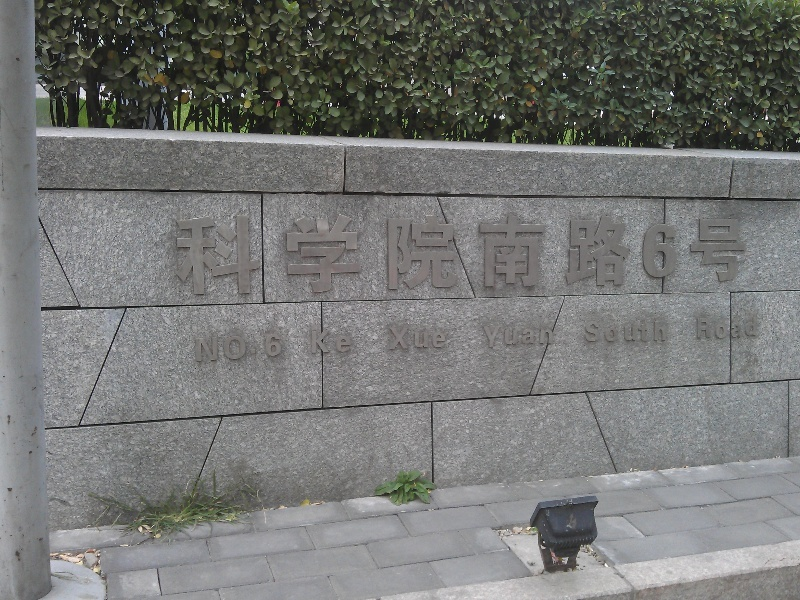text: (177, 214, 192, 298), (193, 214, 208, 298), (209, 214, 224, 298), (225, 214, 240, 298), (241, 214, 256, 298), (257, 214, 272, 298), (273, 214, 288, 298), (289, 214, 304, 298), (305, 214, 320, 298), (321, 214, 336, 298), (337, 214, 352, 298), (353, 214, 368, 298), (369, 214, 384, 298), (385, 214, 400, 298), (401, 214, 416, 298), (417, 214, 432, 298), (433, 214, 448, 298), (449, 214, 464, 298), (465, 214, 480, 298), (481, 214, 496, 298), (497, 214, 512, 298), (513, 214, 528, 298), (529, 214, 544, 298), (545, 214, 560, 298), (561, 214, 576, 298), (577, 214, 592, 298), (593, 214, 608, 298), (609, 214, 624, 298), (625, 214, 640, 298), (641, 214, 656, 298), (657, 214, 672, 298), (673, 214, 688, 298), (689, 214, 704, 298), (705, 214, 720, 298), (721, 214, 736, 298), (165, 214, 176, 298), (737, 214, 746, 298), (193, 330, 208, 367), (209, 330, 224, 367), (225, 330, 240, 367), (241, 330, 256, 367), (257, 330, 272, 367), (273, 330, 284, 367), (481, 325, 496, 351), (497, 325, 512, 351), (513, 325, 528, 351), (529, 325, 544, 351), (321, 330, 336, 355), (337, 330, 352, 355), (401, 326, 416, 351), (417, 326, 432, 351), (593, 320, 608, 345), (609, 320, 624, 345), (625, 320, 640, 345), (641, 320, 656, 345), (433, 326, 447, 351), (705, 317, 720, 340), (721, 317, 736, 340), (737, 317, 752, 340), (545, 325, 558, 351), (308, 330, 320, 355), (388, 326, 400, 351), (581, 320, 592, 345), (657, 320, 667, 345), (694, 317, 704, 340), (753, 317, 759, 340)
